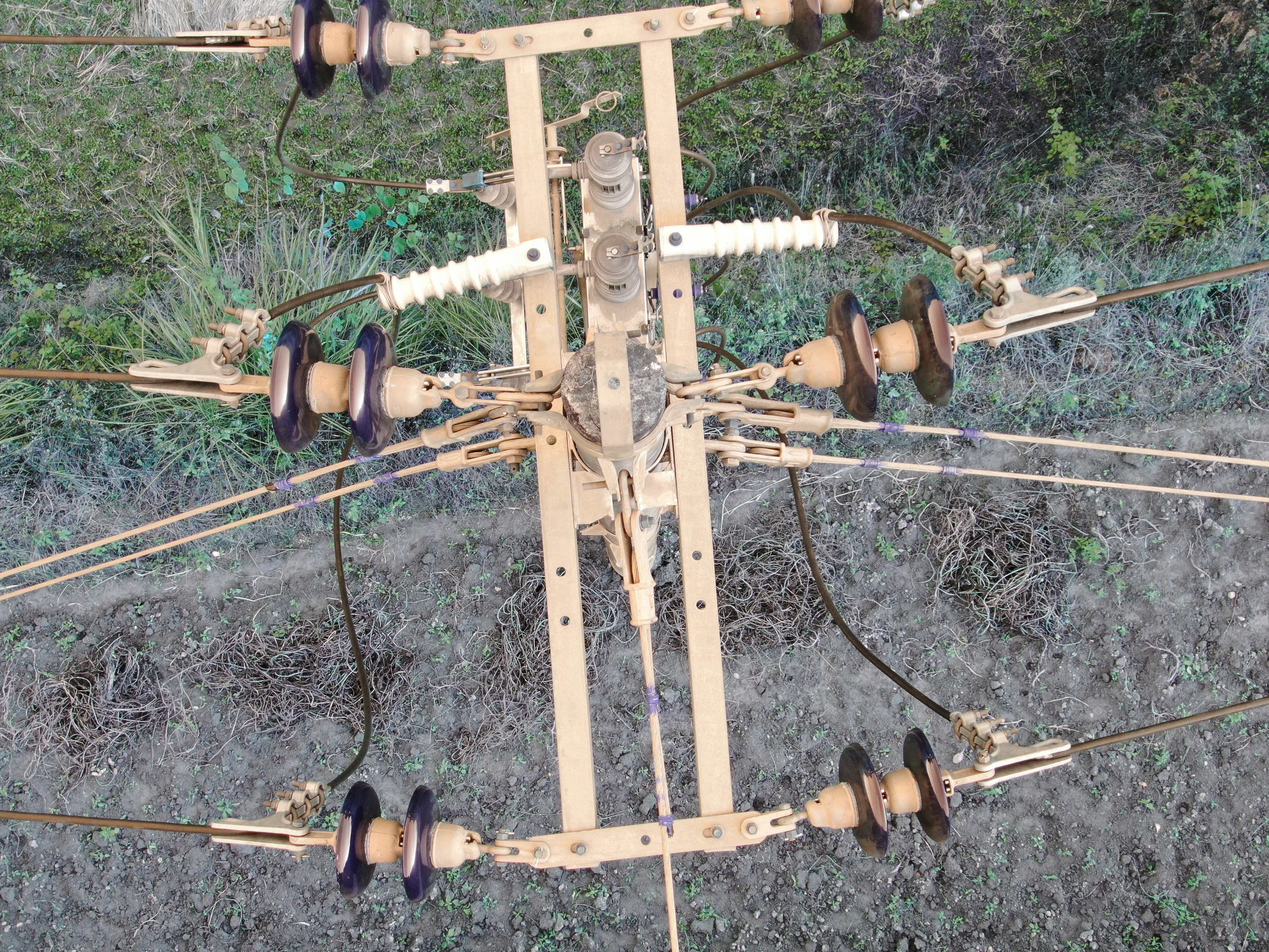severe_soiling_no_discharge_whole: (774, 267, 962, 425), (800, 723, 960, 862), (286, 2, 436, 105)
